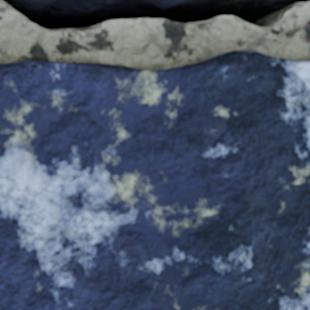brick: (0, 50, 309, 309)
crack: (2, 0, 307, 31)
